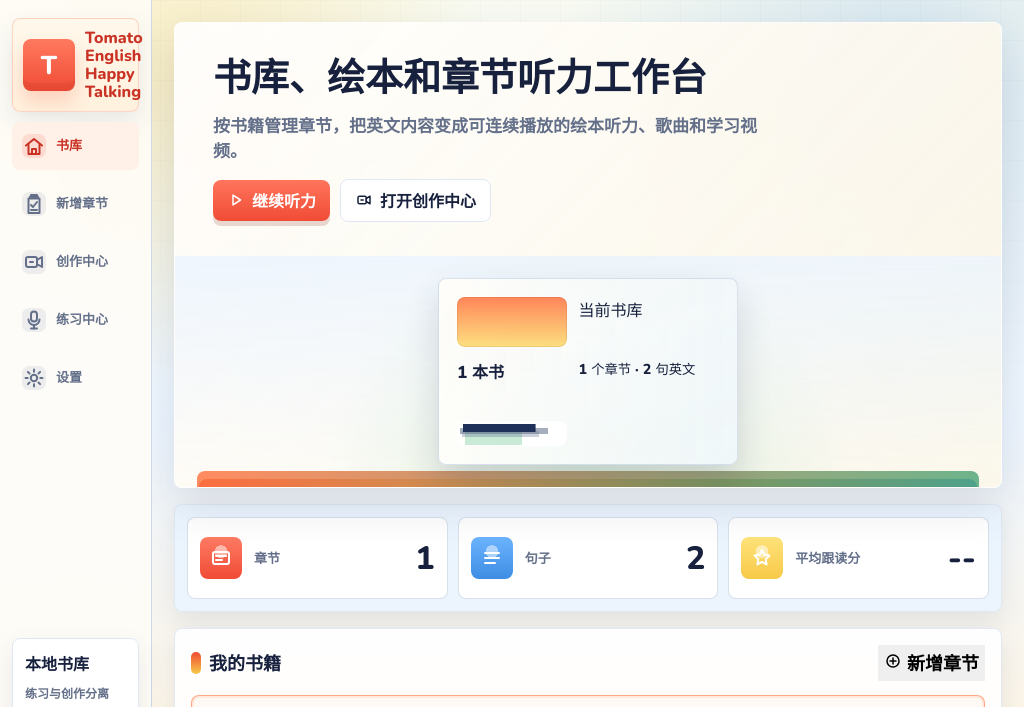
Test: App › updates creation-center picture-book status from native events
Click the button "创作中心": [76, 262] box [12,238,139,286]
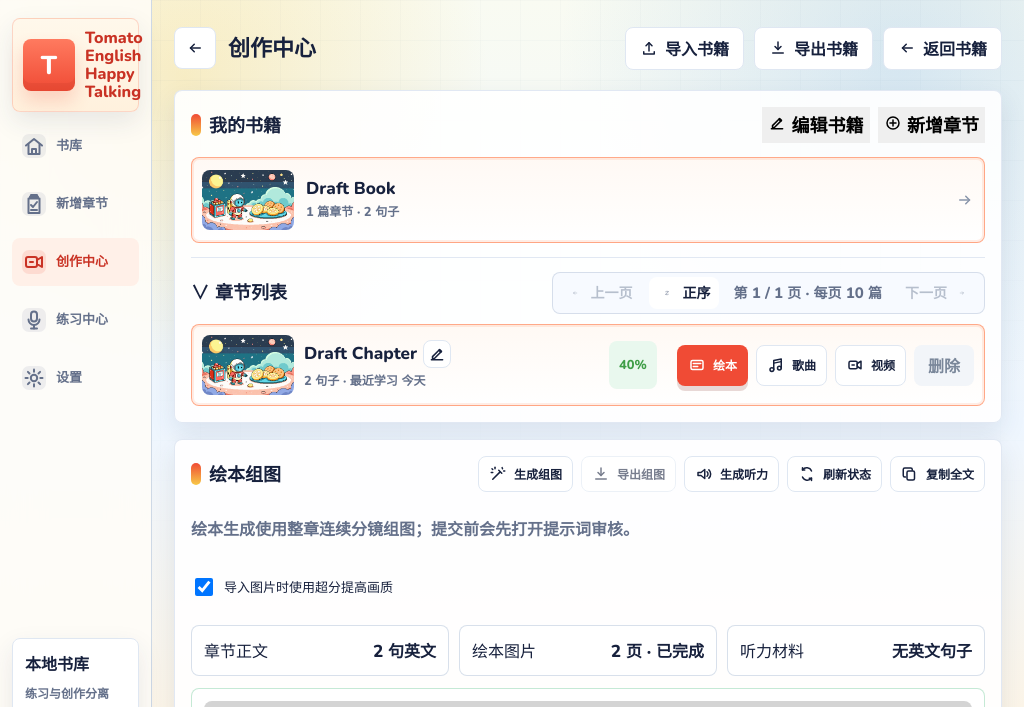
expect the heading "创作中心" is shown: met, box [228,32,316,64]
expect the text "2 页 · 已完成" is shown: met, box [611,638,704,663]
